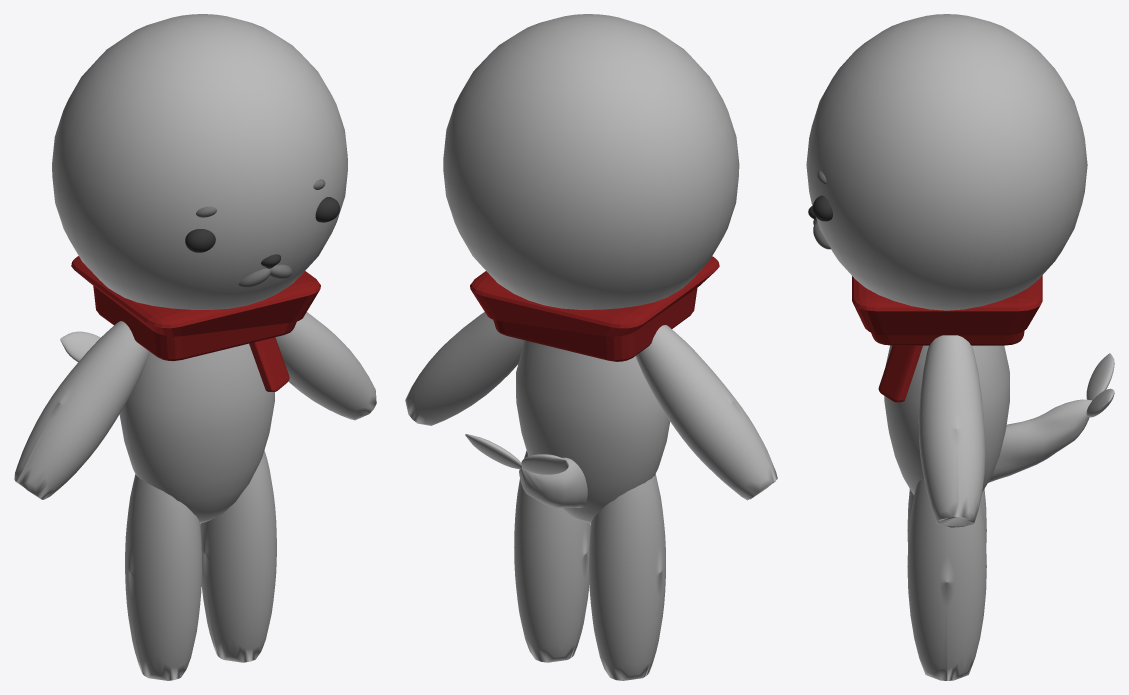
Rendered from seal.glb.
3 views of the same model, side by side, from view 1: azimuth 30°, elevation 25°; view 2: azimuth 150°, elevation 25°; view 3: azimuth 270°, elevation 25° (orthographic).
Visible parts, largest first — view 1: Cube-col; view 2: Cube-col; view 3: Cube-col.
Part boxes in pixels (x1=…): Cube-col: x1=14, y1=14, x2=376, y2=680; Cube-col: x1=405, y1=14, x2=777, y2=680; Cube-col: x1=806, y1=14, x2=1114, y2=680.
Size of the model in its own units: 1.65 by 2.77 by 1.23.
